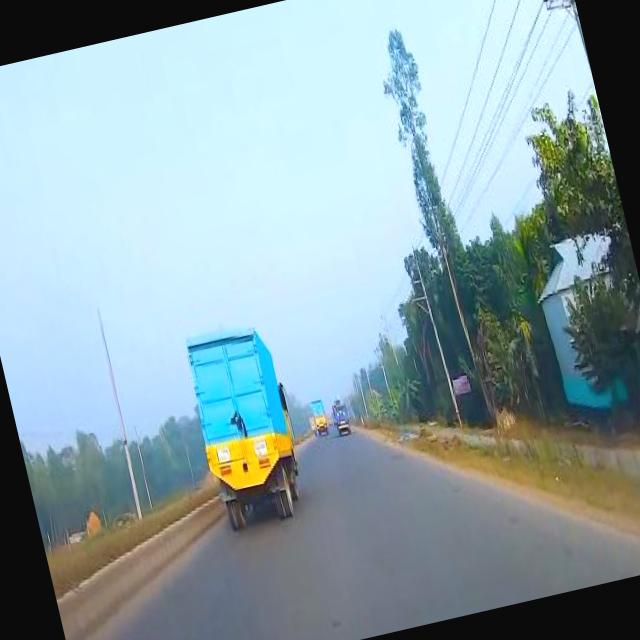truck: (177, 322, 311, 528), (330, 394, 352, 432), (311, 392, 330, 432)
